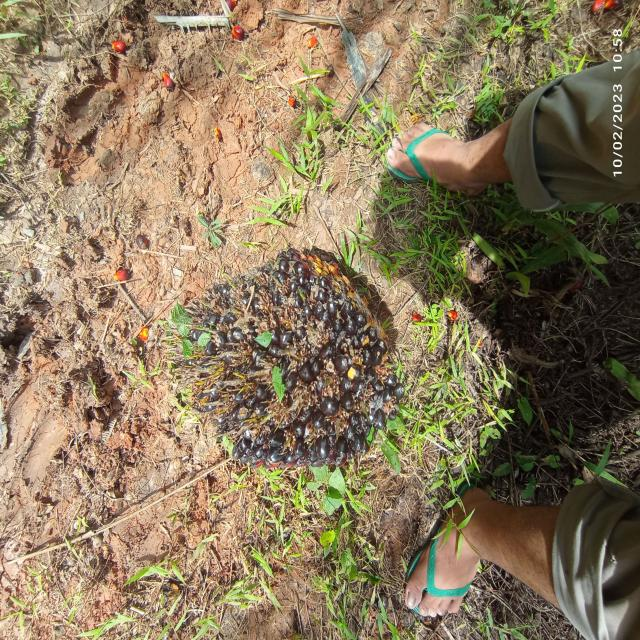fraksi 00: (155, 247, 420, 475)
